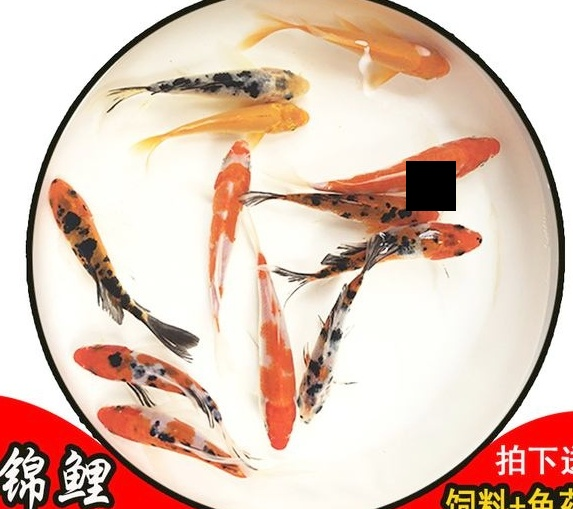fry: (46, 174, 158, 320), (303, 10, 464, 98), (102, 398, 252, 481), (243, 264, 305, 457), (338, 128, 506, 194), (298, 301, 373, 435), (76, 339, 209, 410), (194, 139, 255, 293), (139, 99, 312, 153), (334, 219, 496, 273), (128, 66, 318, 109), (301, 176, 438, 231)
